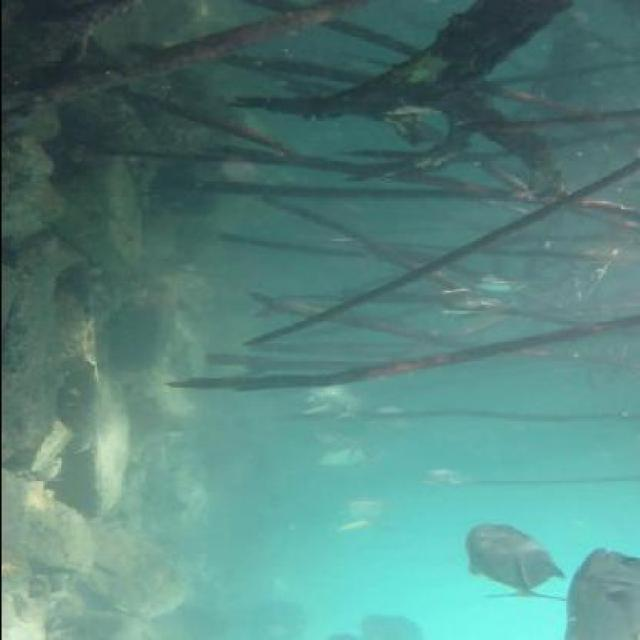Caranx_sexfasciatus_juvenile: (458, 523, 570, 600), (558, 549, 639, 640), (292, 378, 359, 416), (309, 439, 373, 475), (355, 611, 428, 640), (461, 272, 544, 296), (368, 400, 426, 434), (328, 494, 398, 521), (439, 290, 510, 315), (331, 514, 391, 538), (417, 466, 472, 489)
